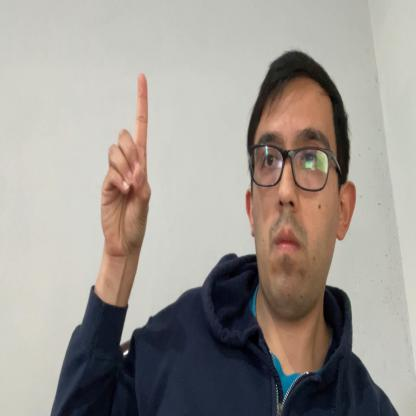D: (100, 72, 152, 258)
